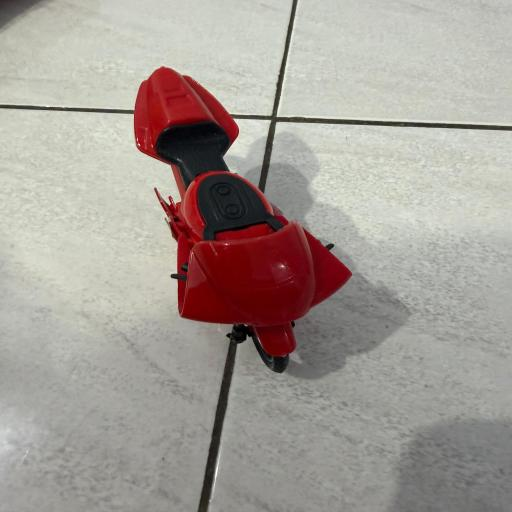motor-merah: (128, 56, 356, 378)
